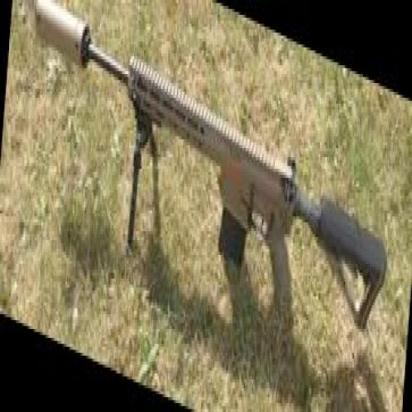Gun: (20, 0, 389, 368)
